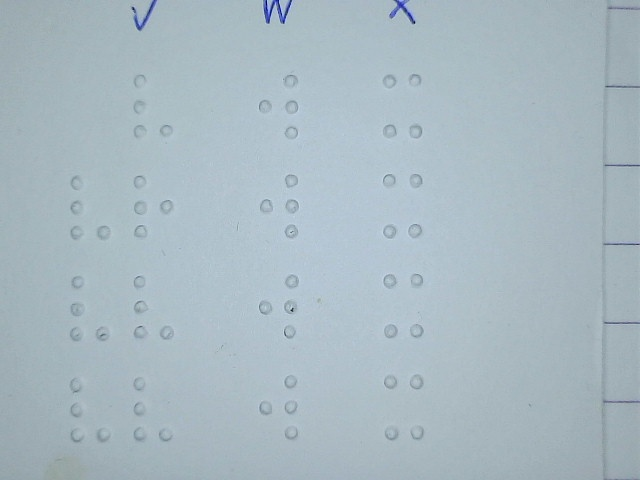V: (132, 72, 175, 140), (69, 171, 112, 239), (69, 275, 112, 343), (132, 273, 175, 341), (131, 374, 174, 442), (68, 376, 111, 444)
W: (257, 72, 300, 140), (258, 171, 301, 239), (257, 372, 300, 440), (257, 271, 300, 339)
X: (381, 71, 424, 139), (381, 171, 424, 239), (382, 271, 425, 339), (382, 372, 425, 440)
